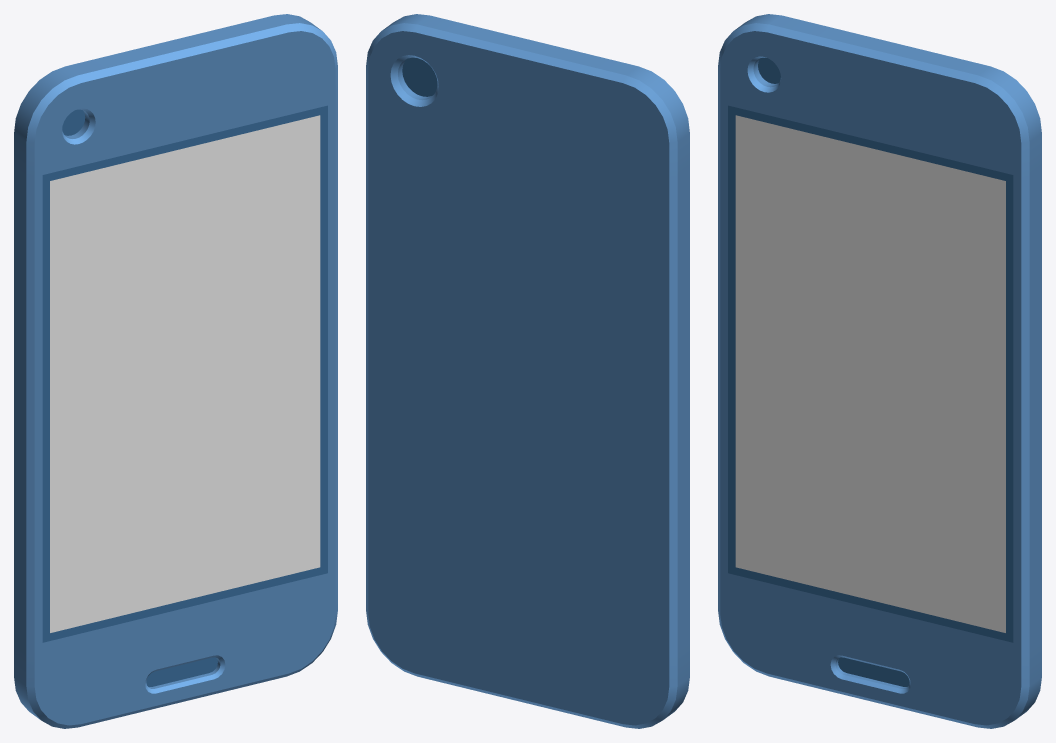
File: MOD_Phone.fbx
3 views of the same model, side by side, from view 1: azimuth 30°, elevation 25°; view 2: azimuth 150°, elevation 25°; view 3: azimuth 330°, elevation 25° (orthographic).
Visible parts, largest first — view 1: MOD_Phone; view 2: MOD_Phone; view 3: MOD_Phone.
Part boxes in pixels (bbox=[...]): MOD_Phone: bbox=[14, 14, 337, 728]; MOD_Phone: bbox=[366, 14, 689, 728]; MOD_Phone: bbox=[718, 14, 1041, 728].
Size of the model in its own units: 13.34 by 26.68 by 1.37.
